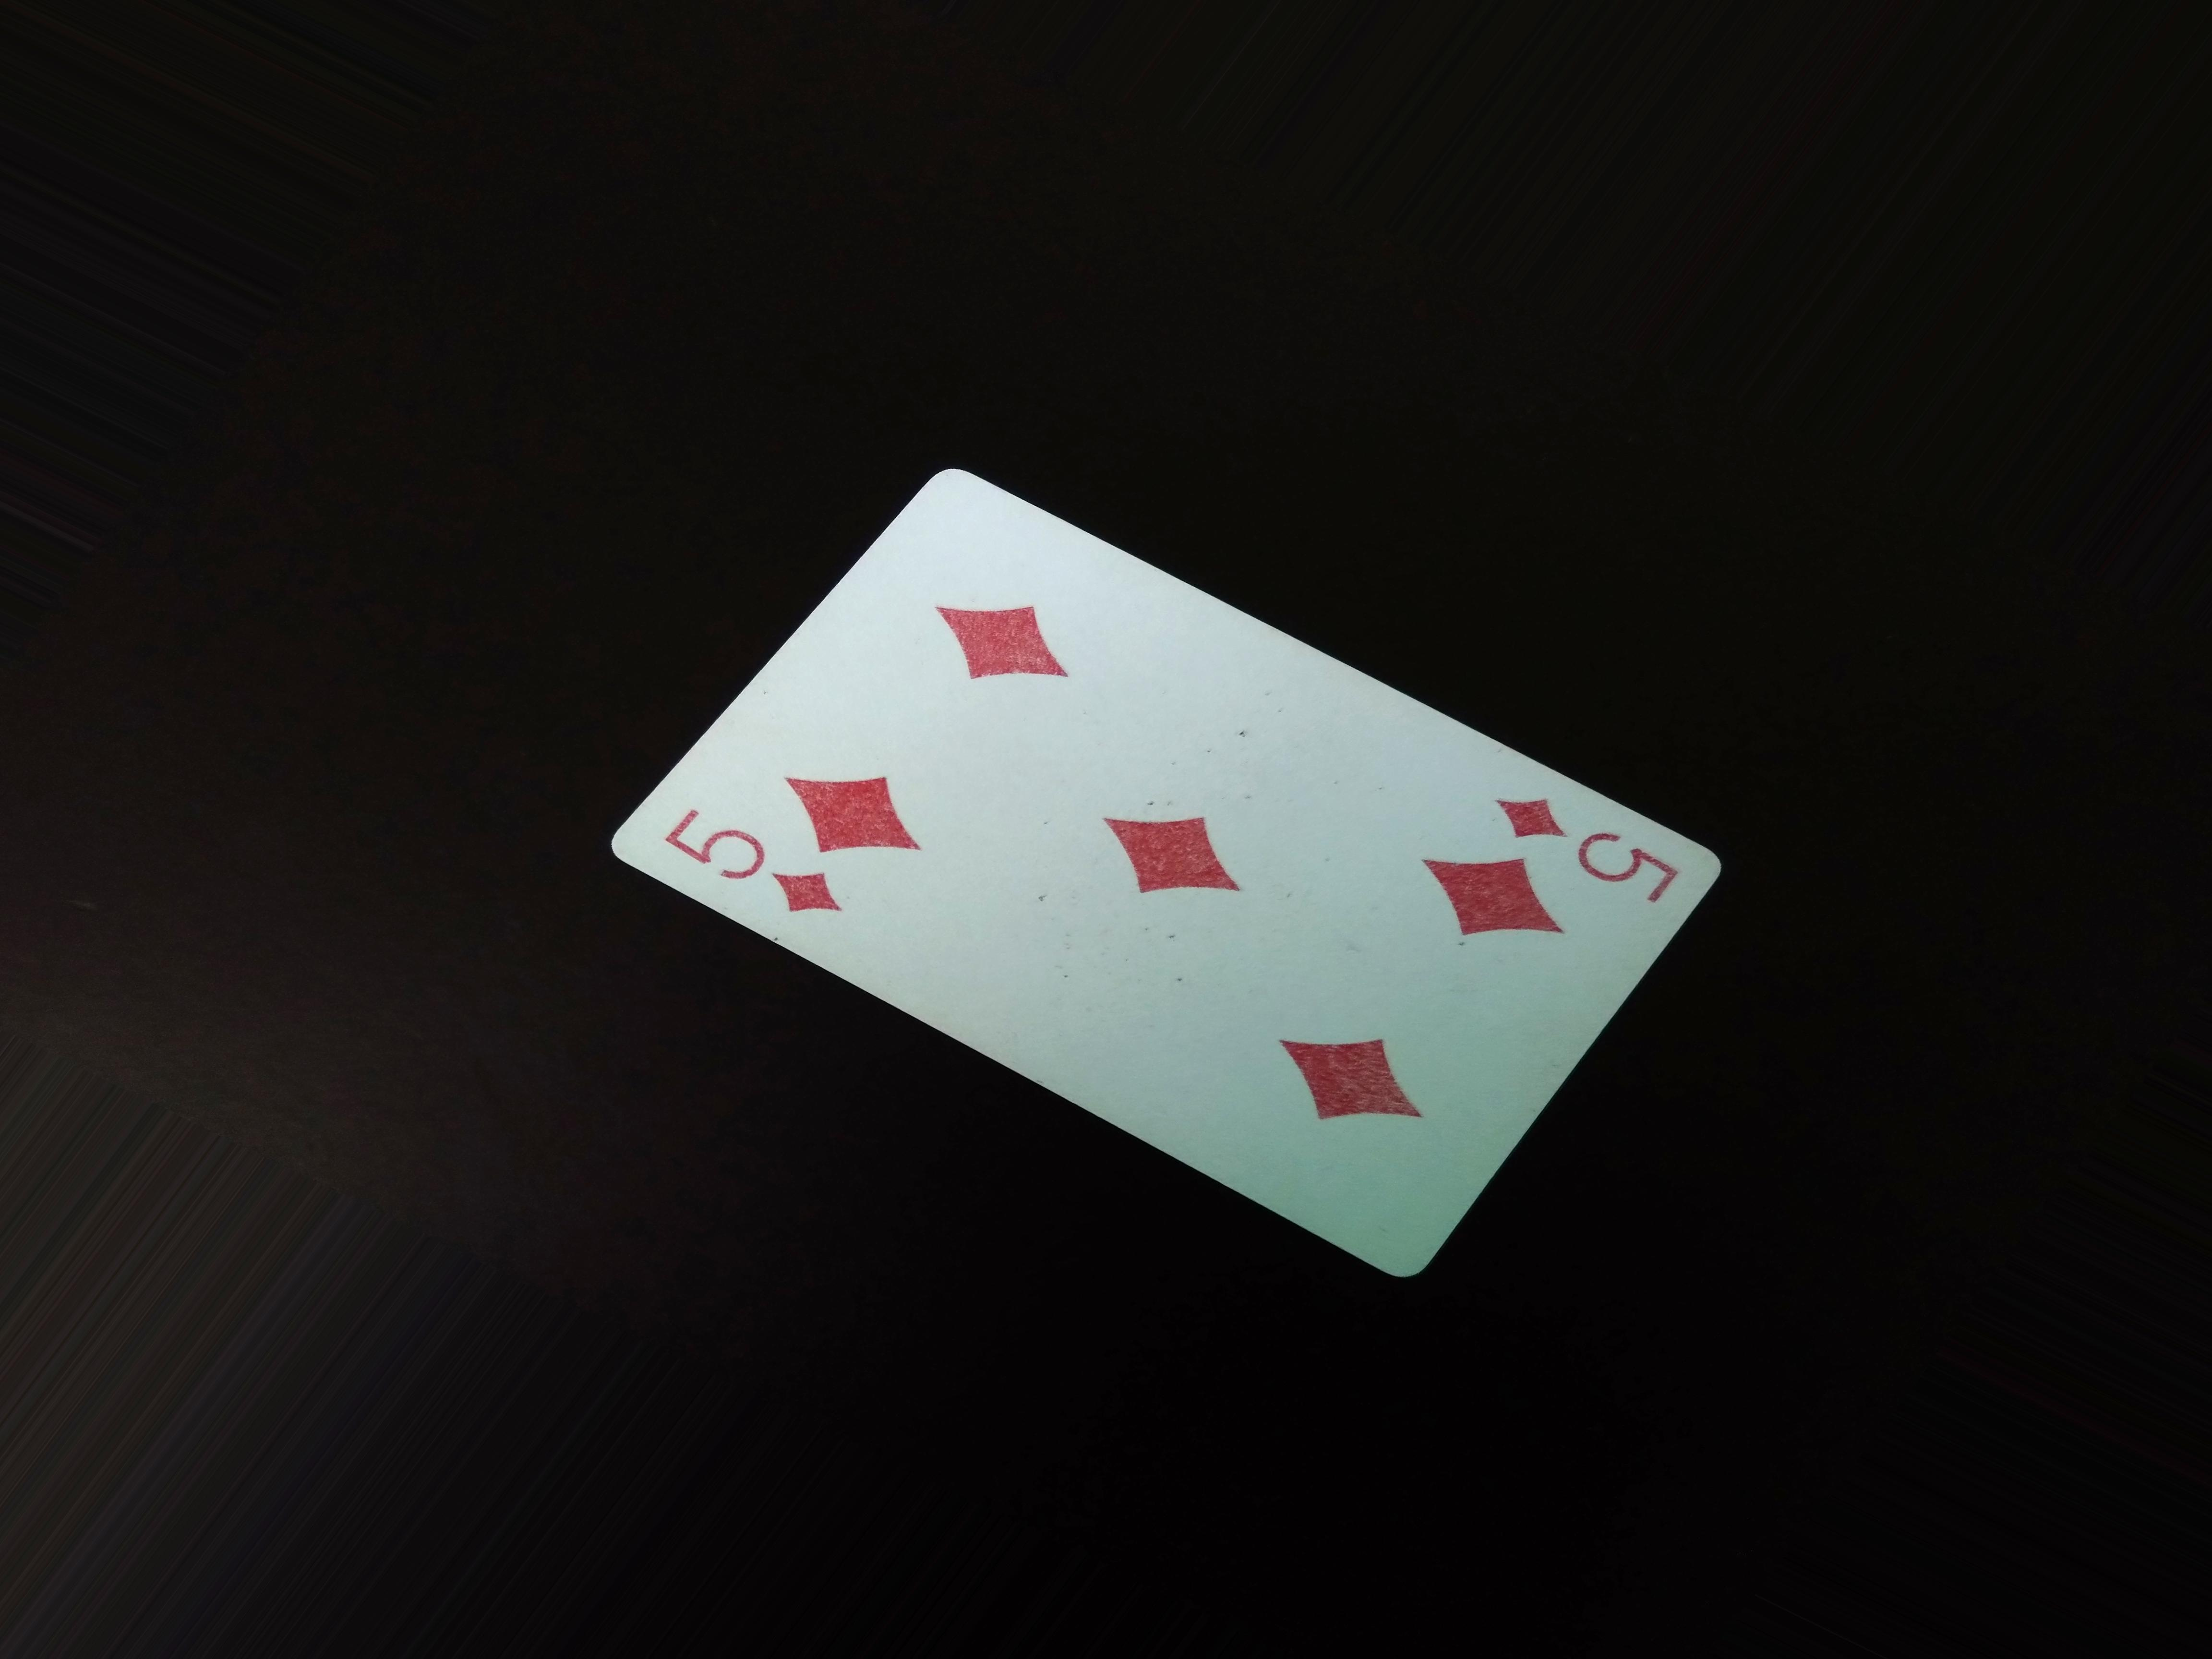5D: (662, 800, 850, 934)
